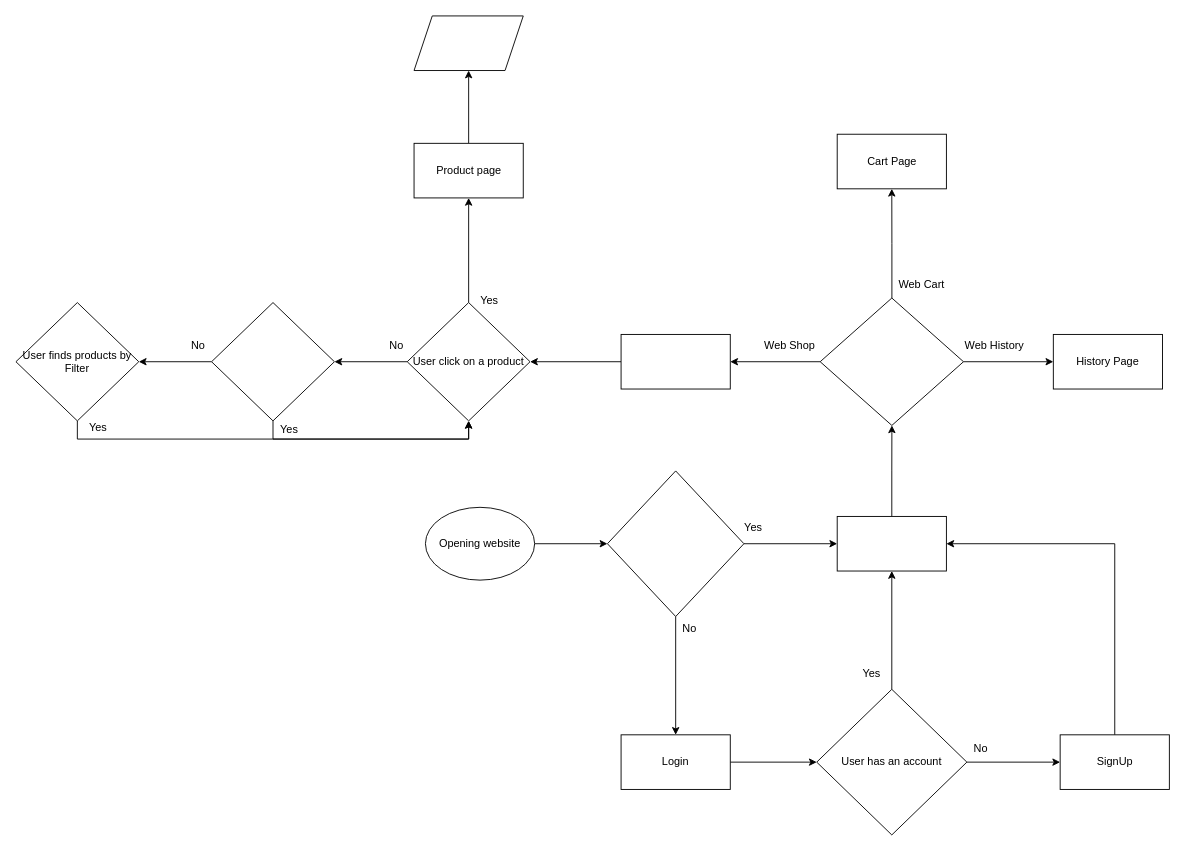
This 1186x851 diagram has some shape labels left out. Here are the shapes that lost their labels. From the top down, the centre of each, then its label:
(272,361): User finds products by keywords
(675,361): Shop Page
(891,361): User navigasi
(675,543): User has signed in before
(891,543): Home
